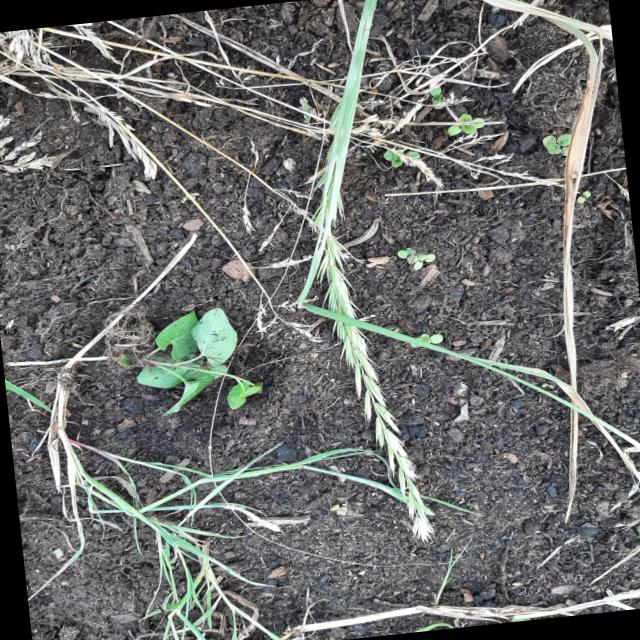Lolium: (321, 246, 442, 544)
